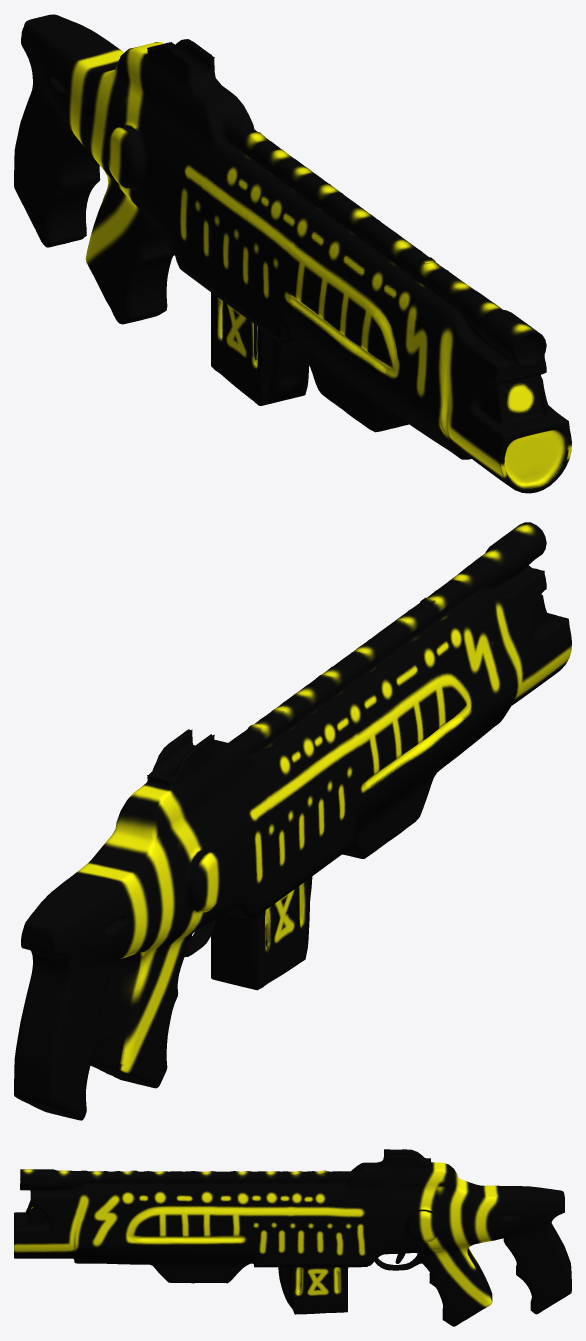
File: ДробовикТ.fbx
The picture shows the model from 3 angles, top to bottom: view 1: azimuth 30°, elevation 25°; view 2: azimuth 150°, elevation 25°; view 3: azimuth 270°, elevation 25°; orthographic projection. The views are drawn at different scales.
Parts seen in each view (by area): view 1: model; view 2: model; view 3: model.
Boxes of the visible parts, <box> form: model: <box>14,14,571,493</box>; model: <box>14,522,571,1120</box>; model: <box>14,1149,571,1326</box>.
Size of the model in its own units: 21.36 by 63.59 by 190.
